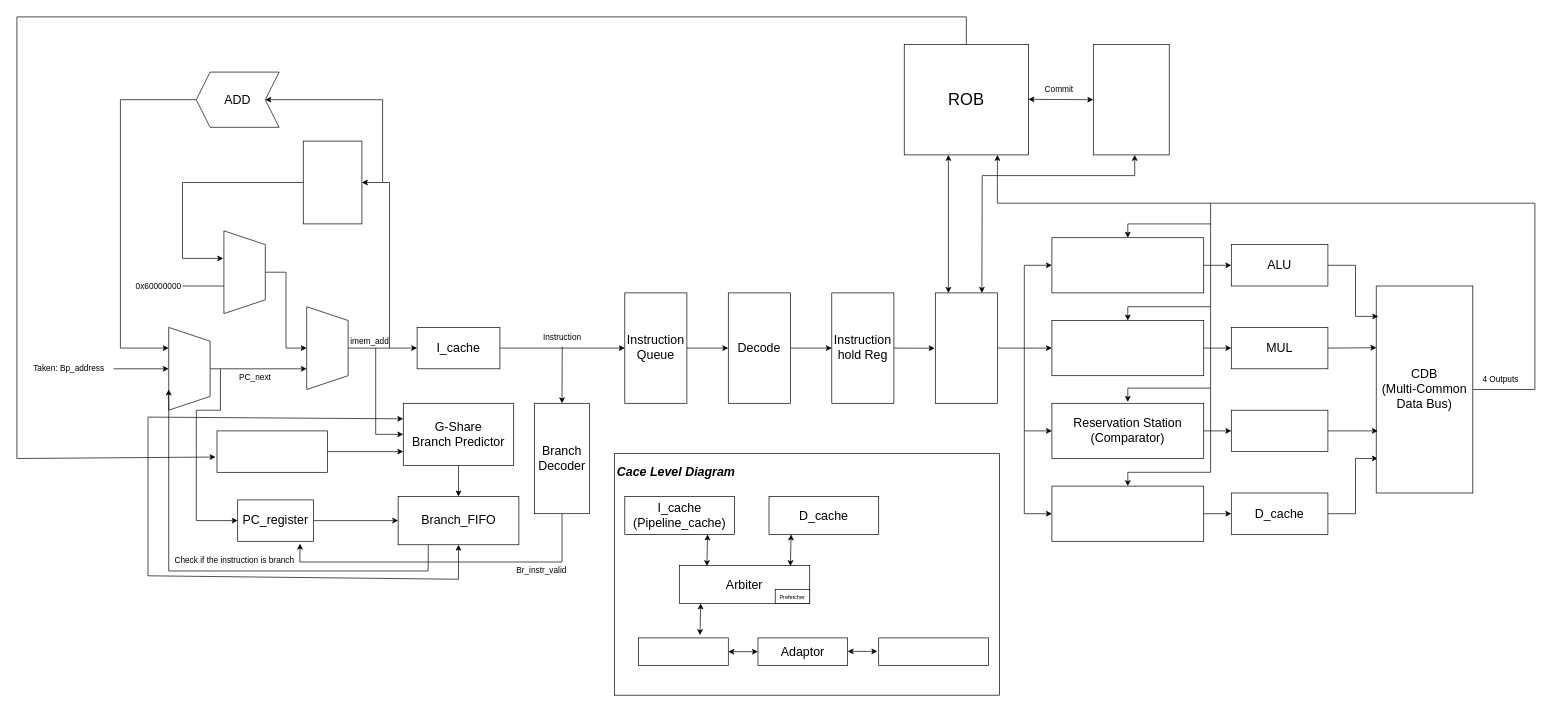
This 1553x707 diagram has some shape labels left out. The centre of each missing label's shape, as x and y in pixels:
"Banked_Memory" belongs at pixel 933 651.
"BHT Shift Reg" belongs at pixel 271 451.
"CMP" belongs at pixel 1279 431.
"L2_cache" belongs at pixel 683 651.
"Load/Store Queue" belongs at pixel 1127 513.
"PC_Reg" belongs at pixel 332 182.
"Reg_File" belongs at pixel 1131 99.
"Rename & Dispatch" belongs at pixel 966 347.
"Reservation Station (ALU)" belongs at pixel 1127 265.
"Reservation Station (Multiplier)" belongs at pixel 1127 348.
